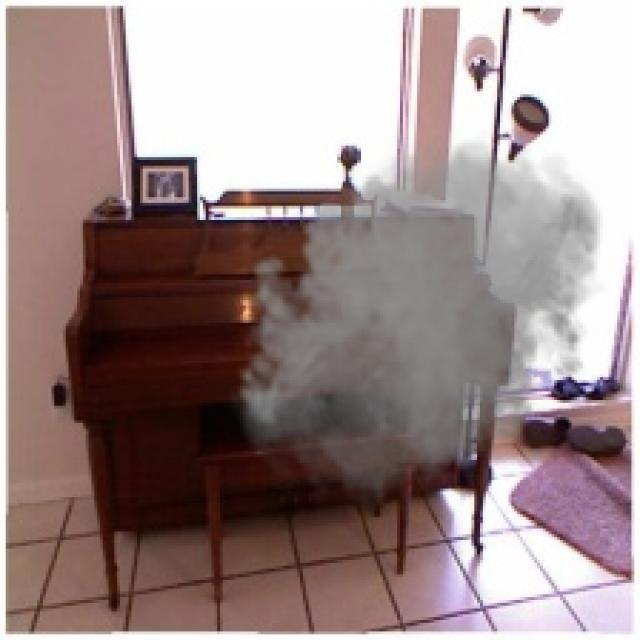smoke: (226, 129, 608, 520)
